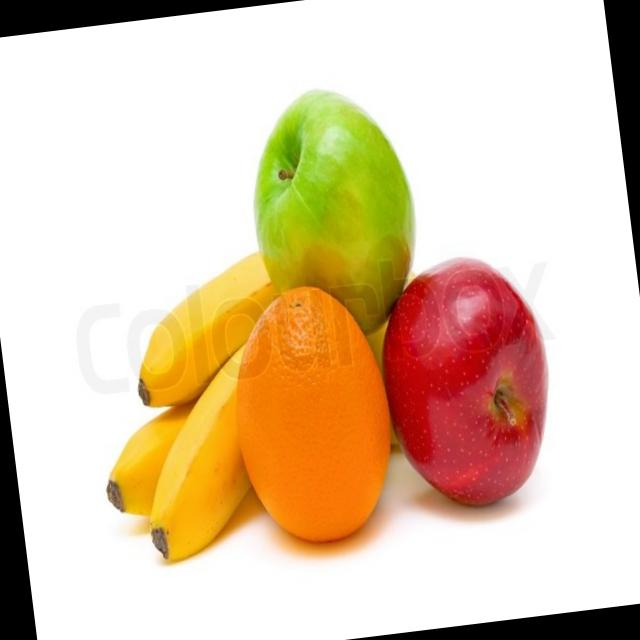apple: (364, 247, 576, 529)
banana: (124, 308, 436, 586)
orange: (205, 278, 415, 562)
